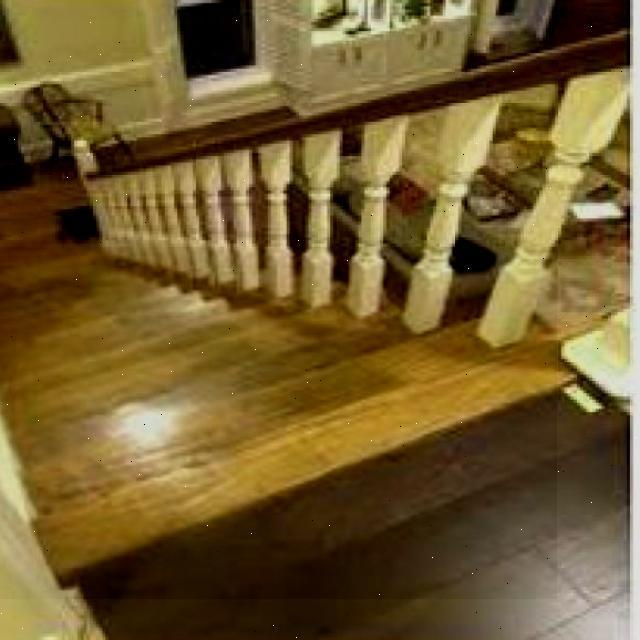stair: (0, 247, 557, 599)
